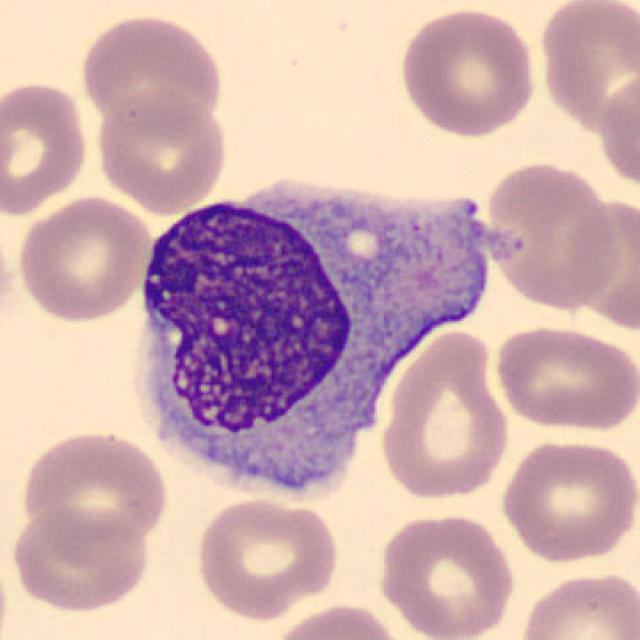Monocyte: (119, 160, 500, 513)
RBC: (377, 324, 512, 504), (480, 159, 626, 314), (396, 4, 540, 140), (192, 494, 341, 622), (18, 427, 170, 552), (373, 509, 517, 640), (76, 11, 228, 134), (14, 192, 153, 323), (496, 436, 638, 564), (93, 86, 231, 215), (7, 502, 155, 616), (491, 321, 638, 432), (534, 0, 638, 136), (0, 75, 91, 218), (563, 194, 640, 335), (515, 567, 638, 640), (267, 599, 409, 640), (596, 67, 638, 194), (0, 213, 18, 344)
